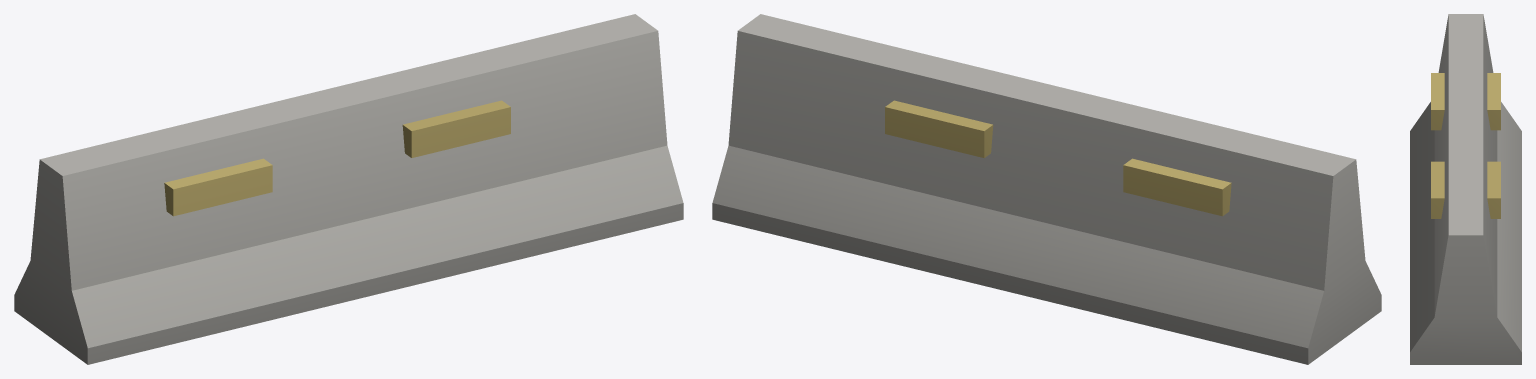
Rendered from mil_barrier.glb.
3 views of the same model, side by side, from view 1: azimuth 30°, elevation 25°; view 2: azimuth 150°, elevation 25°; view 3: azimuth 270°, elevation 25° (orthographic). The views are drawn at different scales.
Parts seen in each view (by area): view 1: mil_barrier; view 2: mil_barrier; view 3: mil_barrier.
Boxes of the visible parts, bbox=[...] form: mil_barrier: bbox=[14, 14, 683, 364]; mil_barrier: bbox=[712, 14, 1381, 364]; mil_barrier: bbox=[1410, 14, 1521, 364].
Bounding box in the file's own units: 3 × 0.82 × 0.64.
